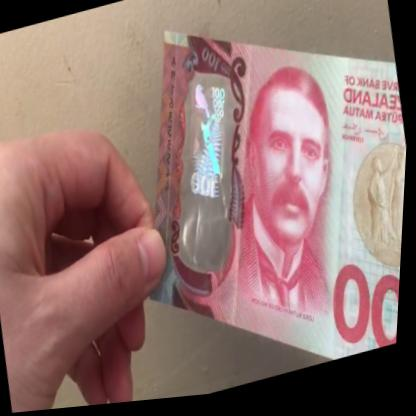100F: (166, 75, 259, 267)
